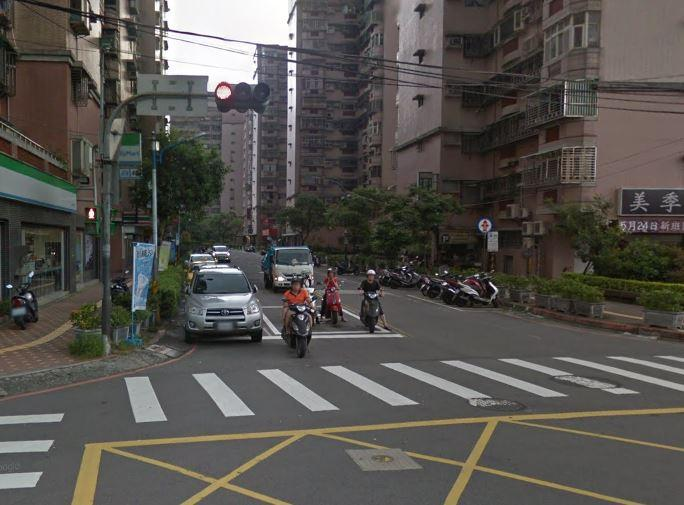red_traffic_light: (212, 79, 269, 102)
